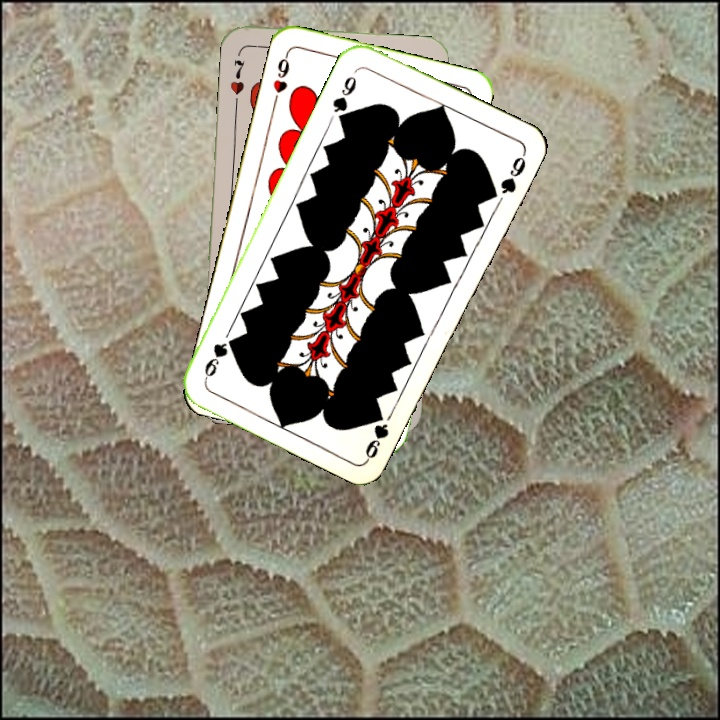G9: (328, 72, 360, 125), (361, 419, 392, 462)
H7: (226, 55, 248, 98)
H9: (269, 49, 292, 107)
